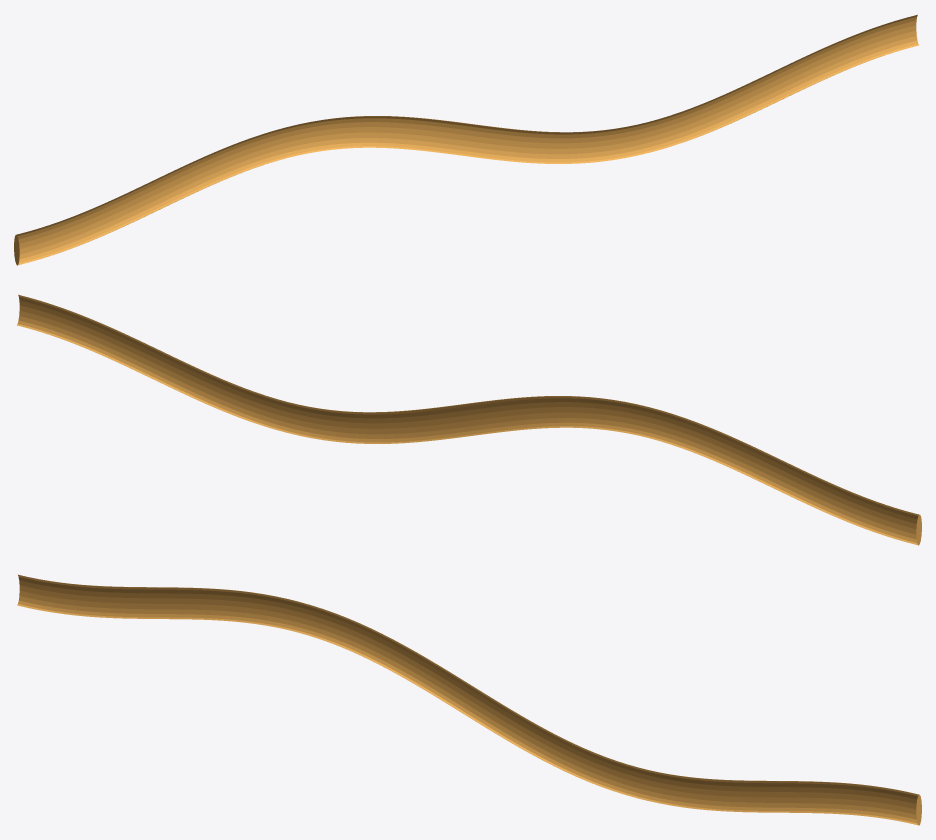
Rendered from dranmar_skin_adhesive_bead_collision_debug.glb.
3 views of the same model, one above another, from view 1: azimuth 30°, elevation 25°; view 2: azimuth 150°, elevation 25°; view 3: azimuth 330°, elevation 25° (orthographic).
Parts seen in each view (by area): view 1: AdhesiveBead_fresh; view 2: AdhesiveBead_fresh; view 3: AdhesiveBead_fresh.
Part boxes in pixels (x1,y1,x2,y2): AdhesiveBead_fresh: (14, 14, 918, 265); AdhesiveBead_fresh: (17, 294, 921, 545); AdhesiveBead_fresh: (17, 574, 921, 825).
Size of what is drawn, in the model's own units: 0.07 by 0.00846 by 0.000748.
